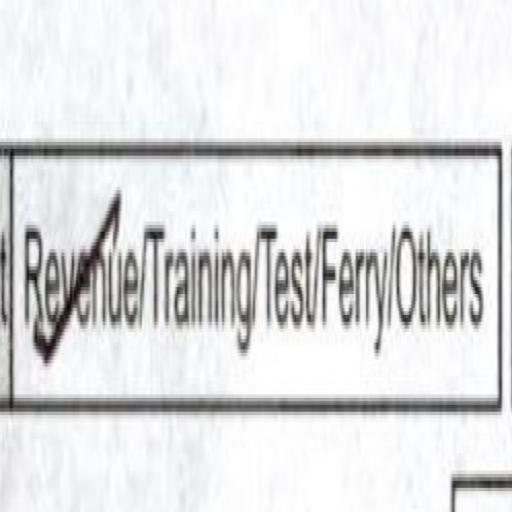check: (18, 116, 142, 410)
